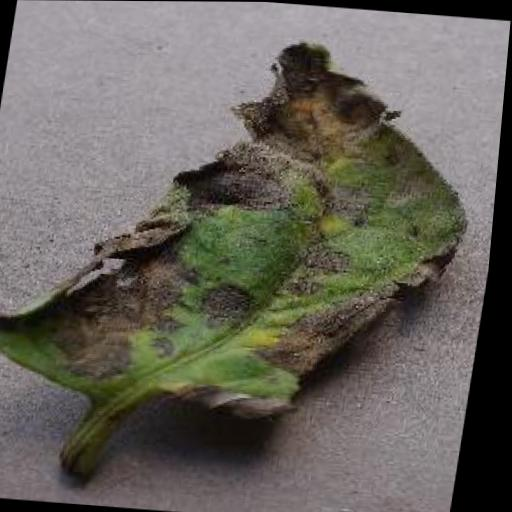Early Blight: (0, 16, 499, 447)
